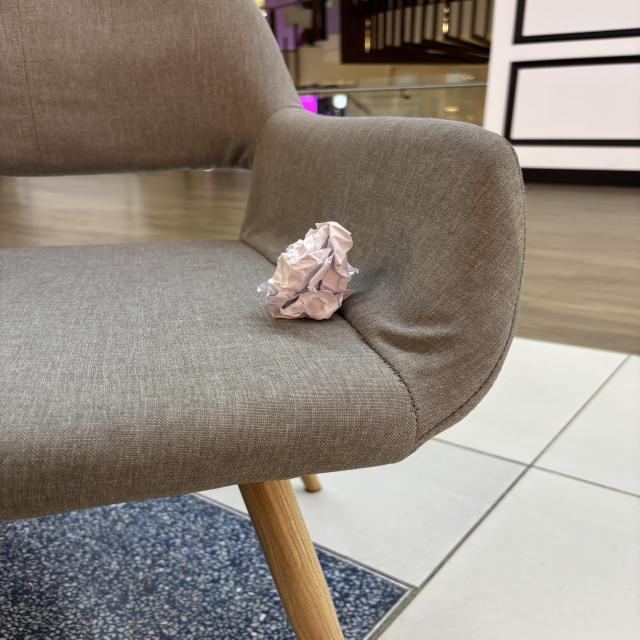crumpled_paper: (258, 215, 367, 336)
